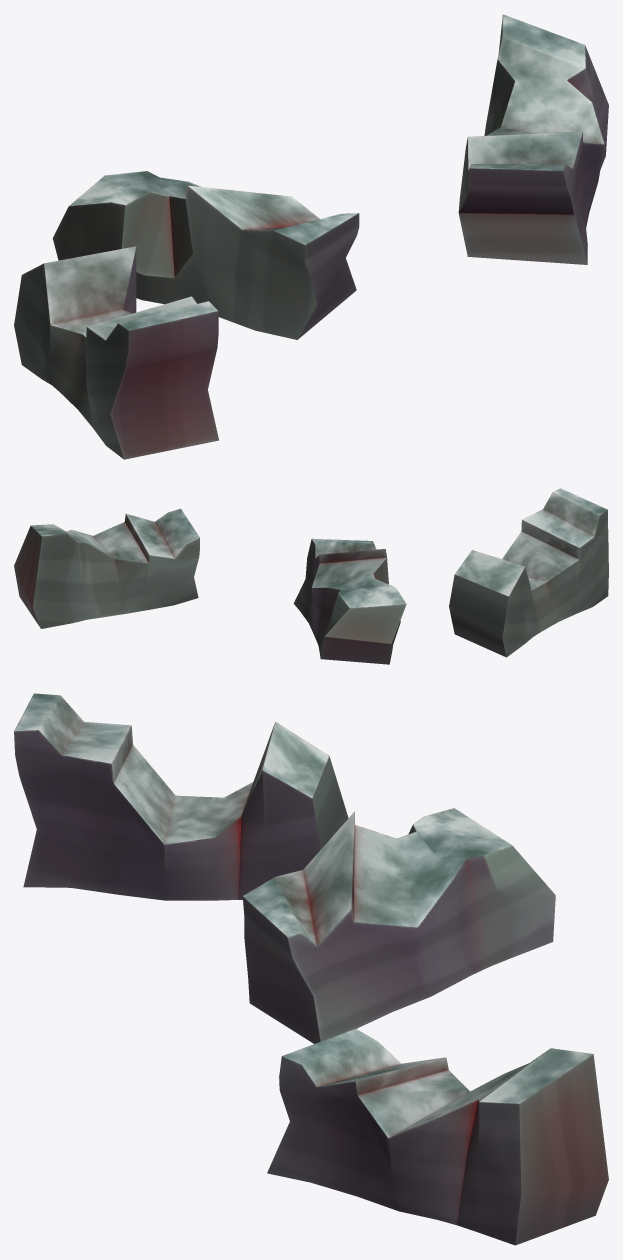
Rendered from Muretti.fbx.
3 renders of one model, top to bottom at view 1: azimuth 30°, elevation 25°; view 2: azimuth 150°, elevation 25°; view 3: azimuth 270°, elevation 25°, orthographic. The views are drawn at different scales.
Visible parts, largest first — view 1: Cube.002, Cube, Cube.001; view 2: Cube, Cube.001, Cube.002; view 3: Cube.001, Cube.002, Cube.
Boxes of the visible parts, box(x1,y1,x2,y2) form: Cube.002: box(52, 171, 359, 339); Cube: box(14, 246, 218, 459); Cube.001: box(458, 14, 608, 264); Cube: box(449, 488, 608, 657); Cube.001: box(14, 508, 199, 628); Cube.002: box(293, 538, 406, 664); Cube.001: box(267, 1028, 608, 1245); Cube.002: box(242, 808, 555, 1043); Cube: box(14, 693, 348, 900).
Size of the model in its own units: 1611 by 354 by 1030.
1 material, 1 textured.
